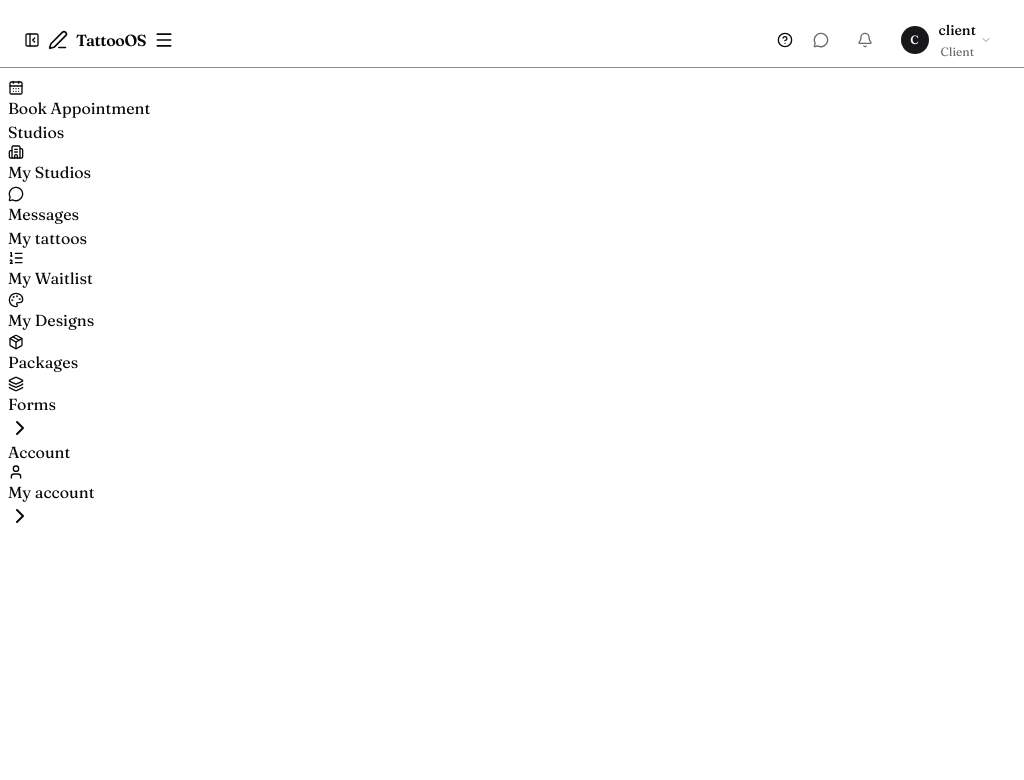
Test: ClientLayout › shows Payment Methods in the Account group only while saved cards are switched on
The width and height of the screenshot is (1024, 780).
Click the button "My account": (51, 496) top-left (8, 464), bottom-right (94, 528)
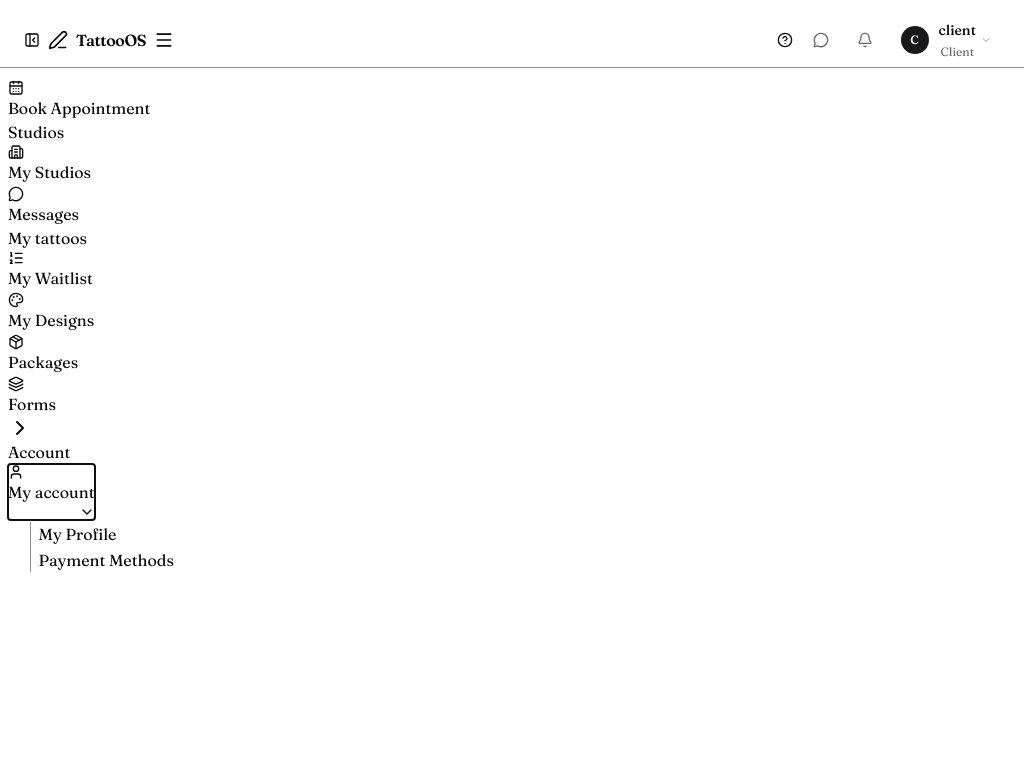
Check: the link "Payment Methods" is shown, box top-left (39, 548), bottom-right (174, 572)
